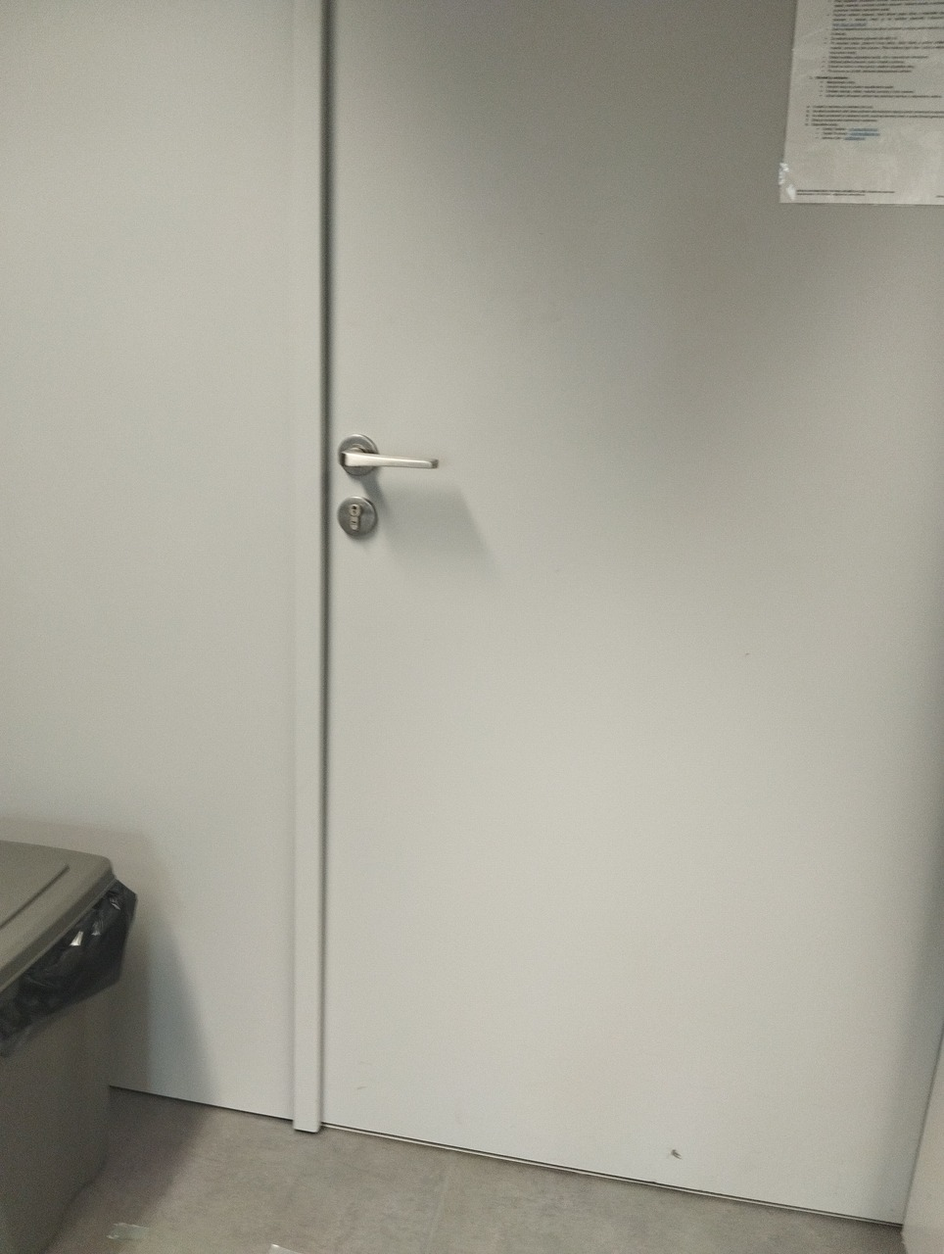Door-handle: (334, 433, 443, 480)
